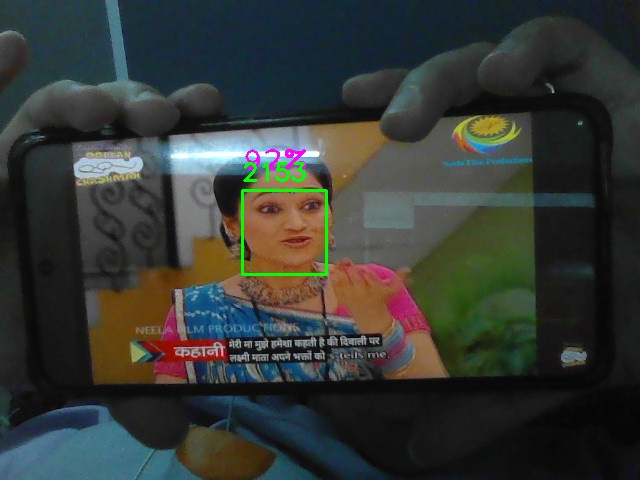fake: (242, 190, 327, 275)
